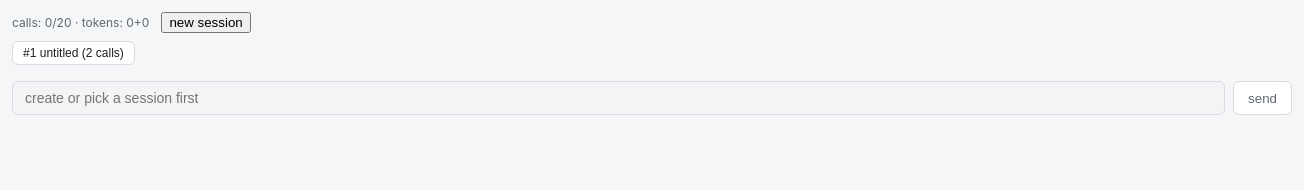
Test case: chat streaming states › session picker: opening a session from the list; failures show a notice
Click the button "#1 untitled (2 calls)": (73,53) [12, 41, 135, 65]
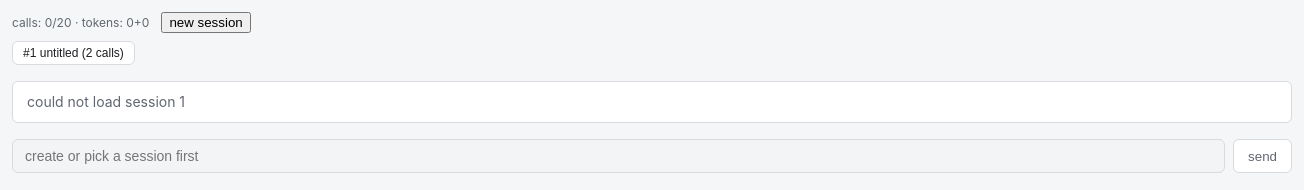
Now the text with test id "chat-error" reads "could not load session 1", box [27, 93, 185, 110]
